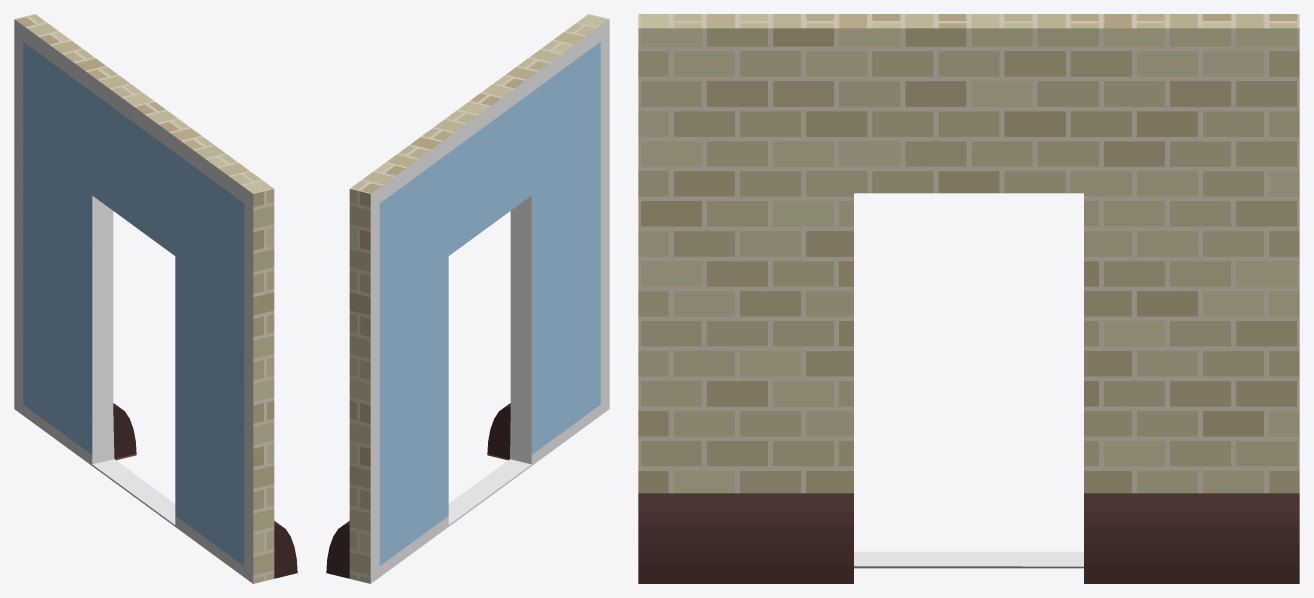
The model's file is Door frame A.fbx.
The picture shows the model from 3 angles, left to right: view 1: azimuth 30°, elevation 25°; view 2: azimuth 150°, elevation 25°; view 3: azimuth 270°, elevation 25°; orthographic projection. The views are drawn at different scales.
Parts seen in each view (by area): view 1: Wall-with-door A; view 2: Wall-with-door A; view 3: Wall-with-door A.
Boxes of the visible parts, <box> form: Wall-with-door A: <box>14,14,297,583</box>; Wall-with-door A: <box>326,14,609,583</box>; Wall-with-door A: <box>638,14,1299,583</box>.
Bounding box in the file's own units: 85.83 × 721 × 800.
